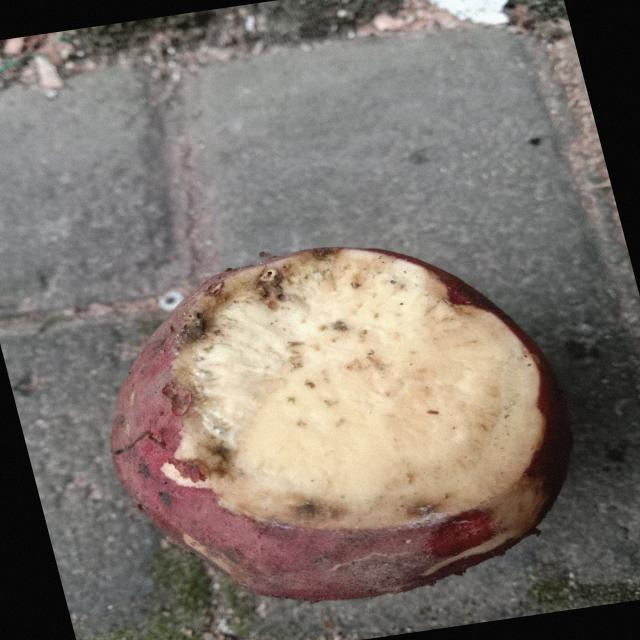Sick Sweet Potato_Tuber Rot: (173, 249, 543, 528)
